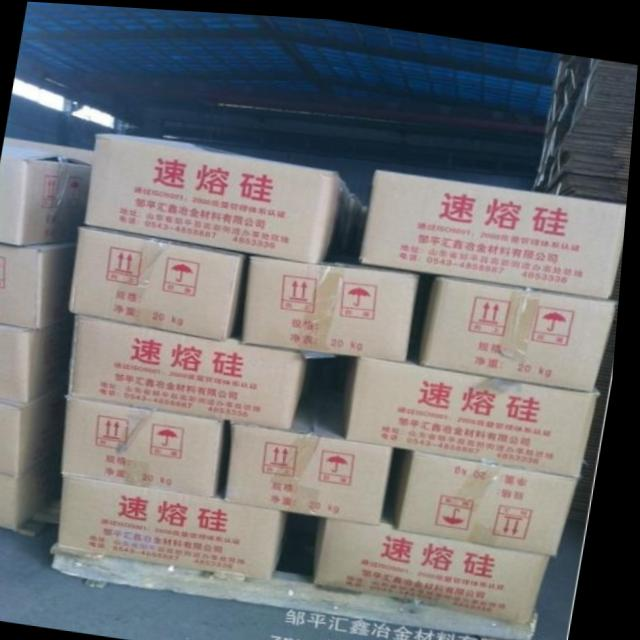box: (360, 162, 629, 292), (86, 130, 356, 258), (348, 352, 605, 471), (70, 311, 316, 426), (323, 514, 561, 618), (233, 378, 399, 520), (423, 270, 622, 387), (68, 474, 296, 573), (69, 223, 249, 338), (400, 446, 585, 550), (243, 250, 421, 357), (67, 399, 231, 496), (0, 147, 93, 246), (0, 239, 80, 328), (0, 381, 70, 477), (0, 318, 72, 401), (0, 450, 70, 532)
